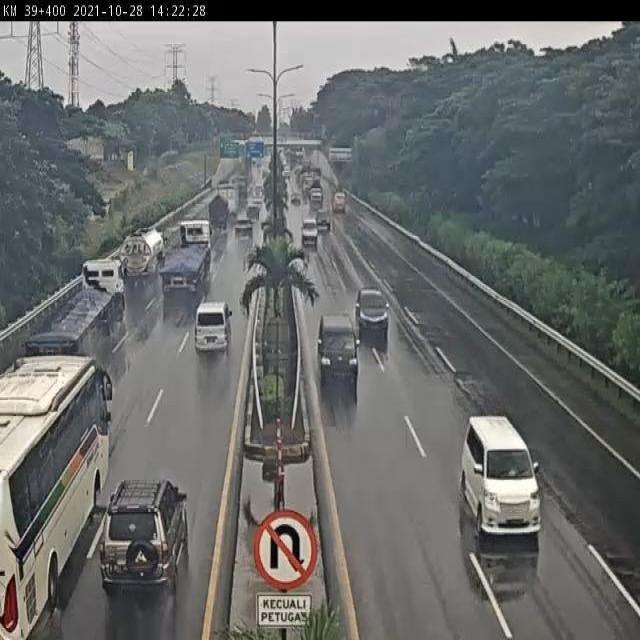bus-l-: (0, 352, 113, 640)
car: (100, 479, 191, 592), (463, 416, 538, 535), (317, 314, 360, 386), (190, 297, 233, 356), (354, 284, 390, 339), (232, 216, 255, 243)
truck-m-: (113, 227, 163, 284)
truck-s-: (205, 194, 230, 238)
truck-xl-: (17, 258, 123, 374), (158, 222, 213, 302)
